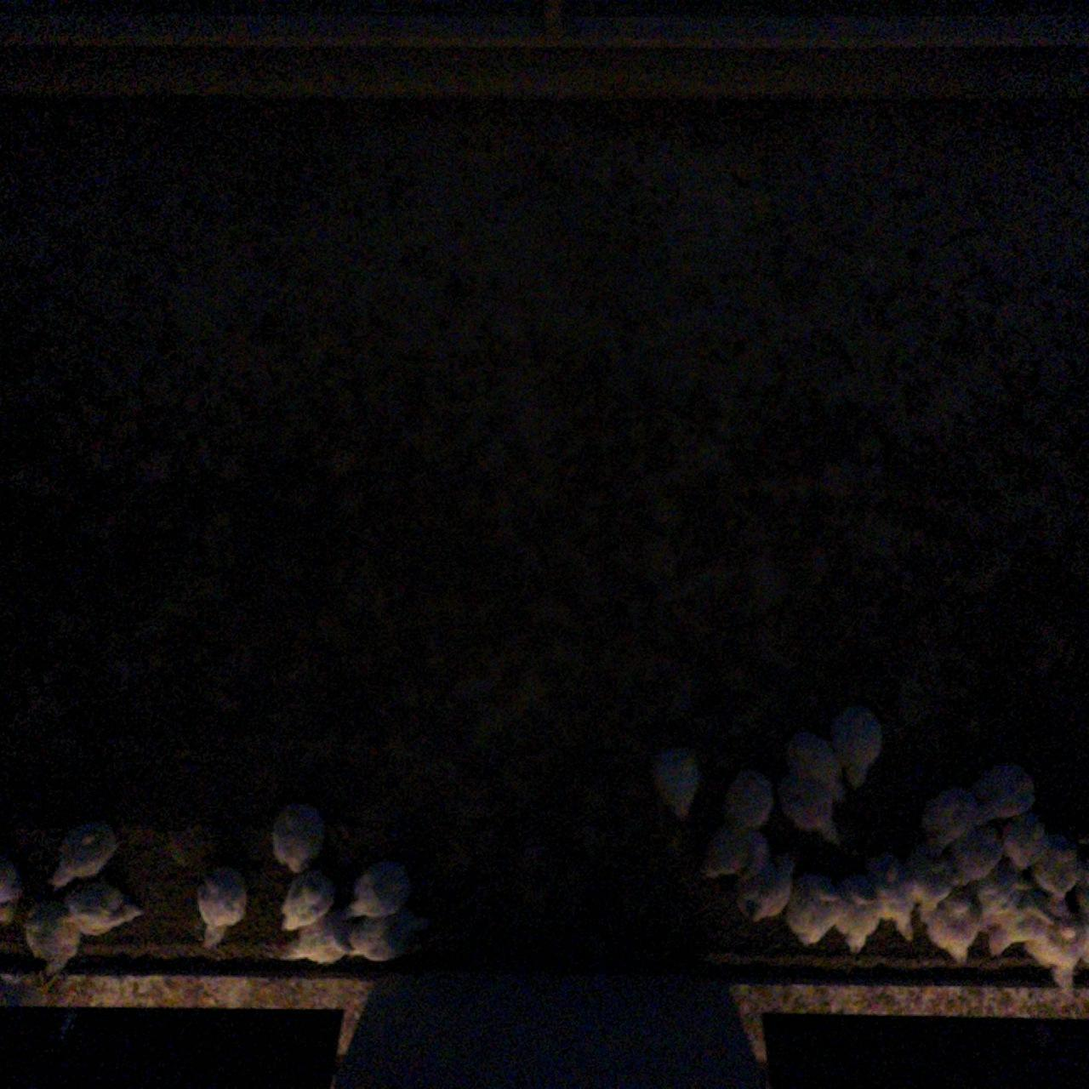chicken: (46, 815, 111, 891), (774, 769, 840, 843), (344, 854, 411, 926), (196, 859, 248, 951), (939, 819, 1002, 894), (50, 882, 137, 936), (20, 897, 80, 974), (785, 869, 839, 952), (830, 702, 881, 788), (647, 744, 701, 824), (829, 867, 879, 953), (269, 794, 325, 870), (732, 852, 790, 924), (924, 888, 981, 961), (870, 853, 917, 941), (336, 909, 418, 959), (921, 783, 977, 856), (730, 761, 783, 837), (900, 842, 949, 923), (972, 756, 1031, 821), (276, 920, 350, 970), (699, 826, 763, 882), (787, 729, 843, 792), (280, 869, 334, 933), (996, 801, 1046, 869), (978, 890, 1024, 959), (1046, 918, 1084, 1000), (1034, 833, 1080, 894), (966, 868, 1014, 918), (1020, 898, 1052, 962), (0, 856, 24, 926), (1069, 872, 1089, 922)
